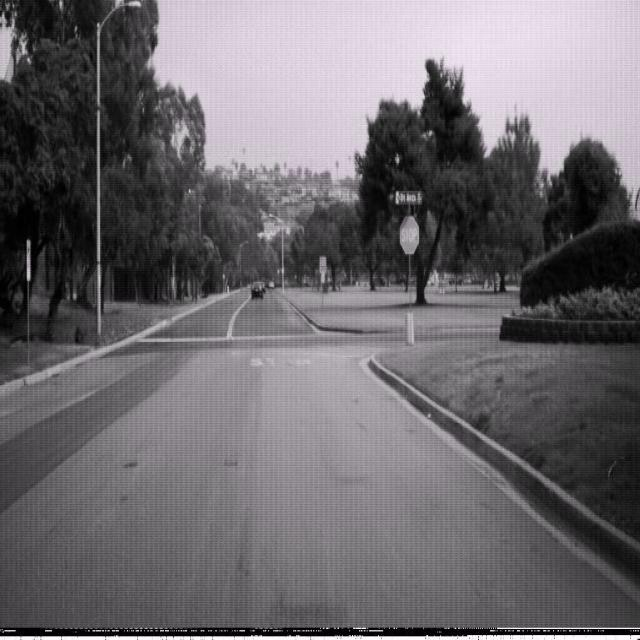stop: (399, 213, 419, 255)
